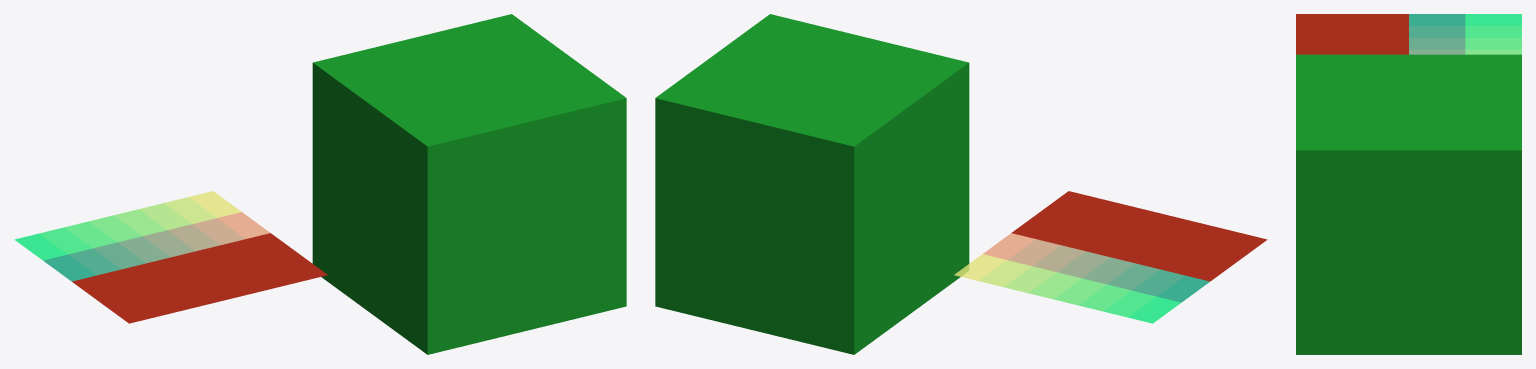
The model's file is ours.fbx.
3 views of the same model, side by side, from view 1: azimuth 30°, elevation 25°; view 2: azimuth 150°, elevation 25°; view 3: azimuth 270°, elevation 25° (orthographic).
Parts seen in each view (by area): view 1: box, plane; view 2: box, plane; view 3: box, plane.
Boxes of the visible parts, x1,y1,x2,y2 form: box: [312, 14, 626, 354]; plane: [14, 191, 327, 323]; box: [655, 14, 969, 354]; plane: [954, 191, 1267, 323]; box: [1296, 54, 1521, 354]; plane: [1296, 14, 1521, 54].
Bounding box in the file's own units: 5 × 2 × 2.
3 materials, 1 textured.
